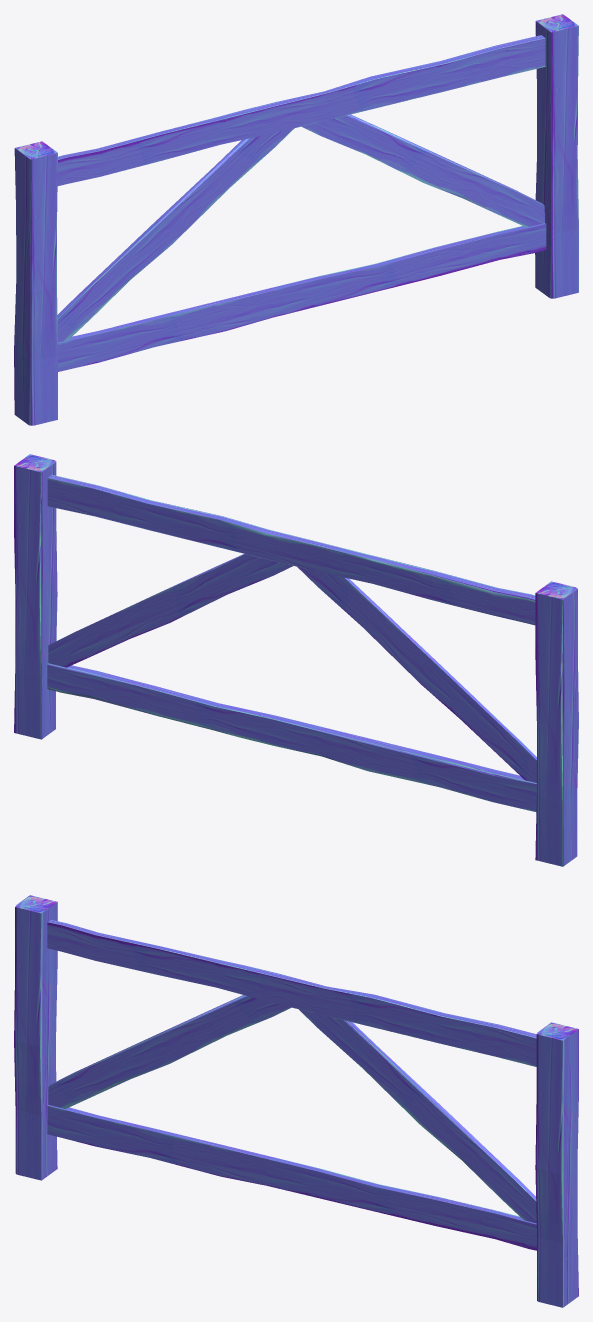
File: SM_WoodenFence_B_01.fbx
3 renders of one model, top to bottom at view 1: azimuth 30°, elevation 25°; view 2: azimuth 150°, elevation 25°; view 3: azimuth 330°, elevation 25°, orthographic.
Visible parts, largest first — view 1: SM_WoodenFence_B_01_LOD0; view 2: SM_WoodenFence_B_01_LOD0; view 3: SM_WoodenFence_B_01_LOD0.
Boxes of the visible parts, left/top/right/bottom form: SM_WoodenFence_B_01_LOD0: left=14, top=14, right=578, bottom=425; SM_WoodenFence_B_01_LOD0: left=14, top=454, right=578, bottom=866; SM_WoodenFence_B_01_LOD0: left=14, top=895, right=578, bottom=1307.
Bounding box in the file's own units: 263 × 122 × 13.56.
